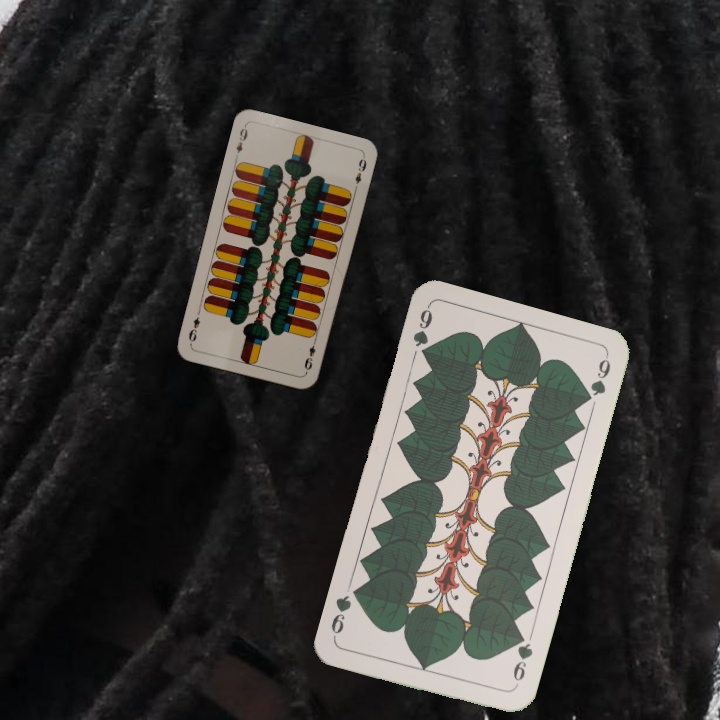E9: (300, 335, 319, 375), (231, 122, 250, 162)
G9: (408, 303, 435, 363), (509, 630, 535, 691)
